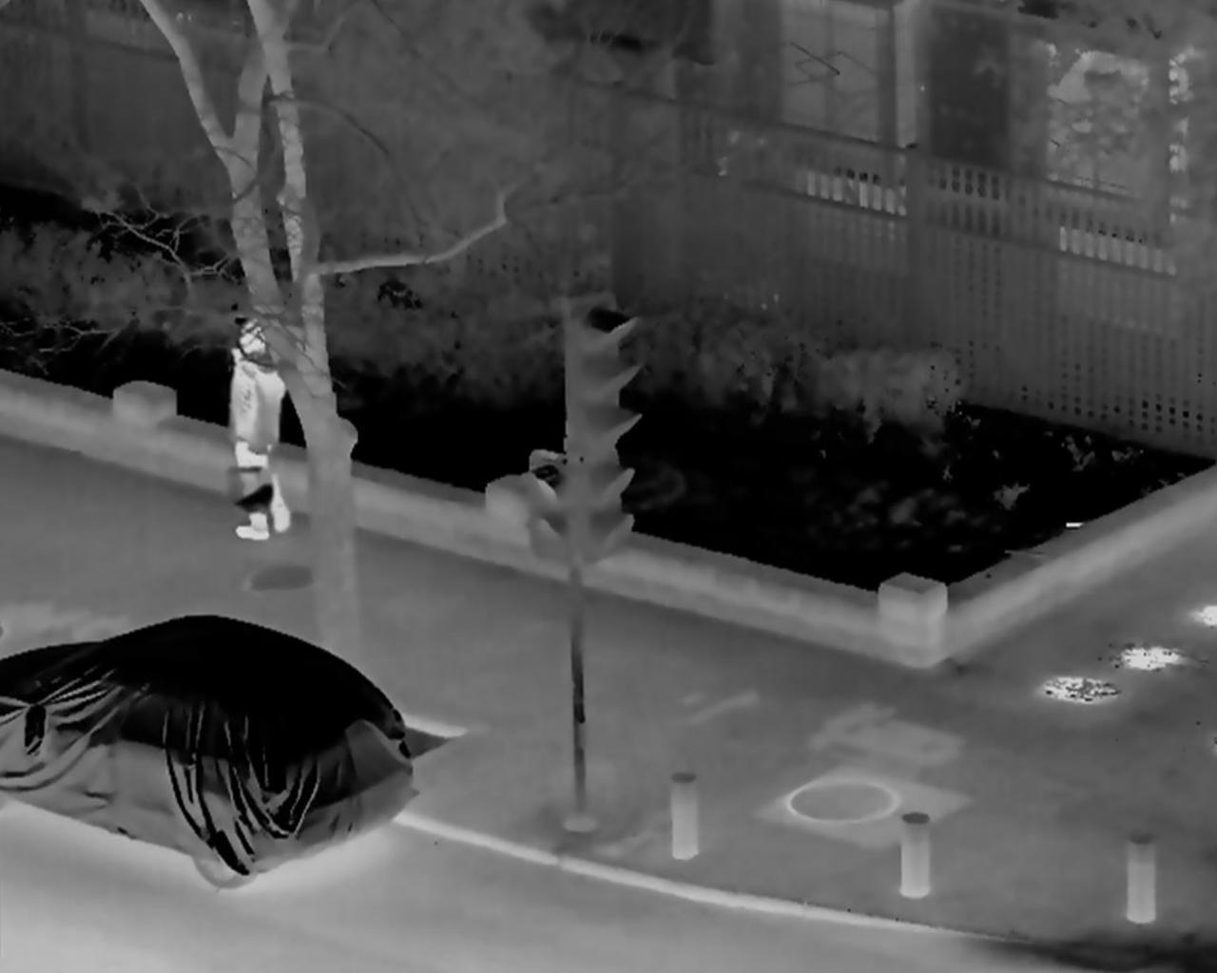person: (224, 326, 292, 543)
